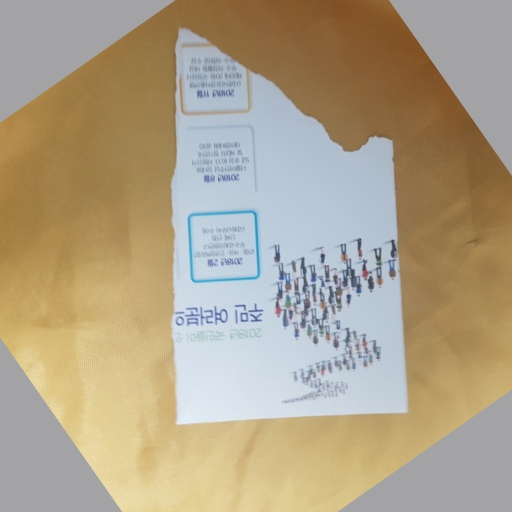Paper_2: (152, 147, 435, 453)
